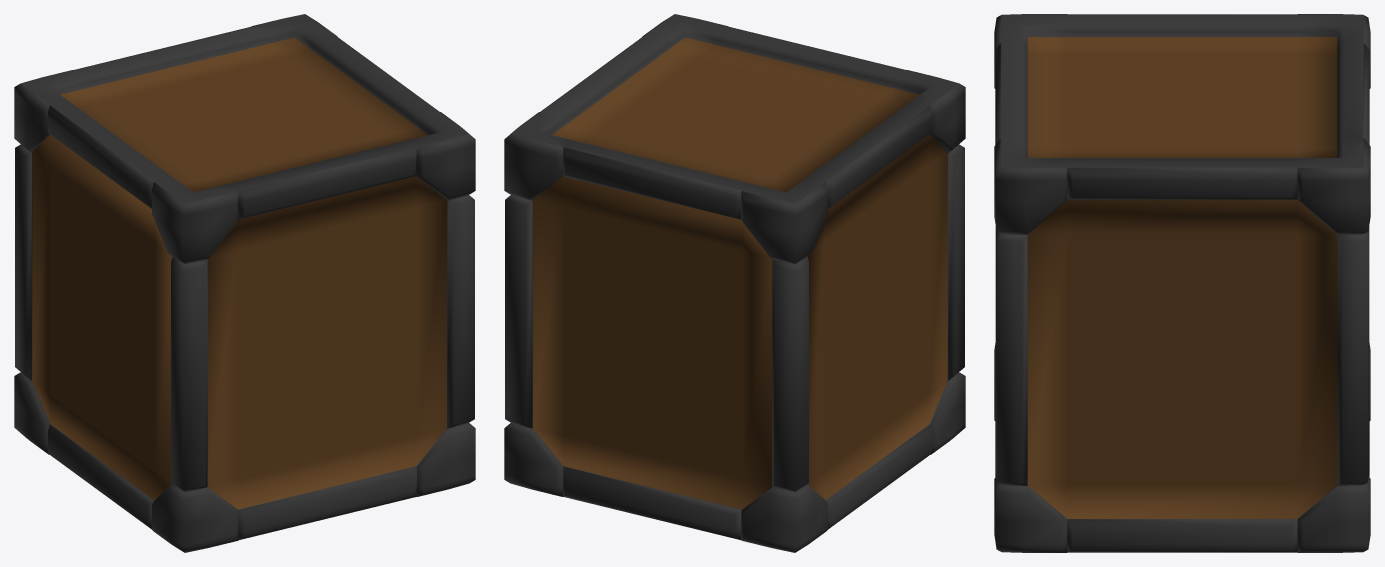
Rendered from Caisse_BasFond.fbx.
3 views of the same model, side by side, from view 1: azimuth 30°, elevation 25°; view 2: azimuth 150°, elevation 25°; view 3: azimuth 270°, elevation 25° (orthographic). The views are drawn at different scales.
Parts seen in each view (by area): view 1: Cube; view 2: Cube; view 3: Cube.
Part boxes in pixels (x1=…): Cube: x1=14, y1=14, x2=475, y2=552; Cube: x1=504, y1=14, x2=965, y2=552; Cube: x1=994, y1=14, x2=1370, y2=552.
Bounding box in the file's own units: 91.3 × 103 × 91.3.
